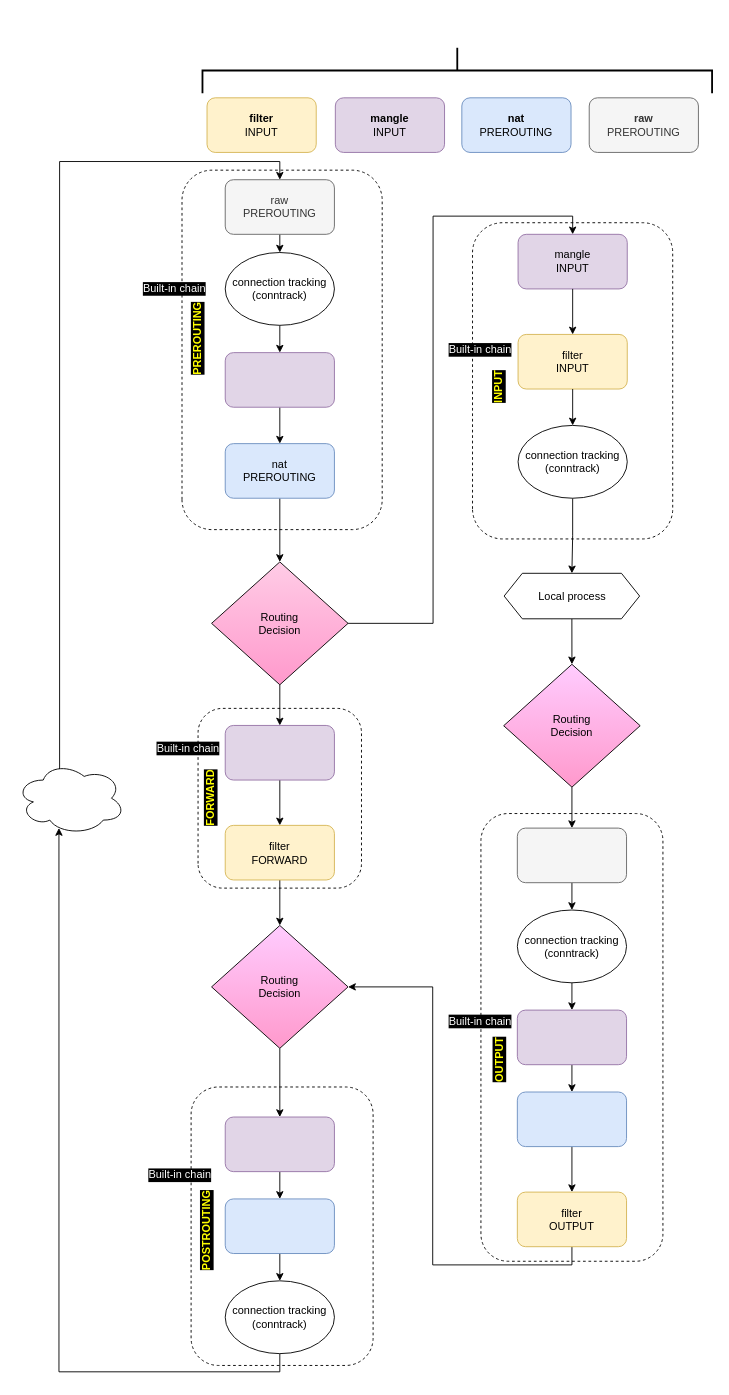
This 729x1395 diagram has some shape labels left out. Here are the shapes that lost their labels. From the top down, the box of each, then its label:
(201, 46, 713, 94): Built-in IPTABLES tables
(224, 352, 334, 407): mangle PREROUTING
(224, 725, 334, 780): mangle FORWARD
(15, 761, 125, 835): Network
(516, 827, 627, 883): raw OUTPUT
(516, 1009, 627, 1065): mangle OUTPUT
(516, 1091, 627, 1147): nat OUTPUT
(224, 1116, 334, 1172): mangle POSTROUTING
(224, 1198, 334, 1254): nat POSTROUTING
